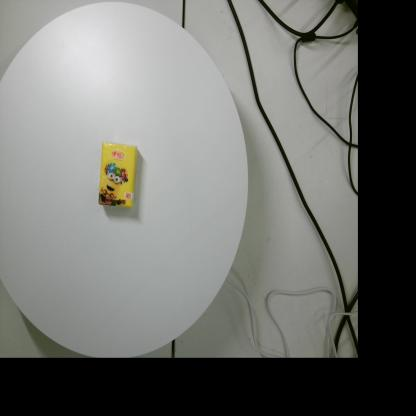Tissue: (98, 142, 138, 209)
